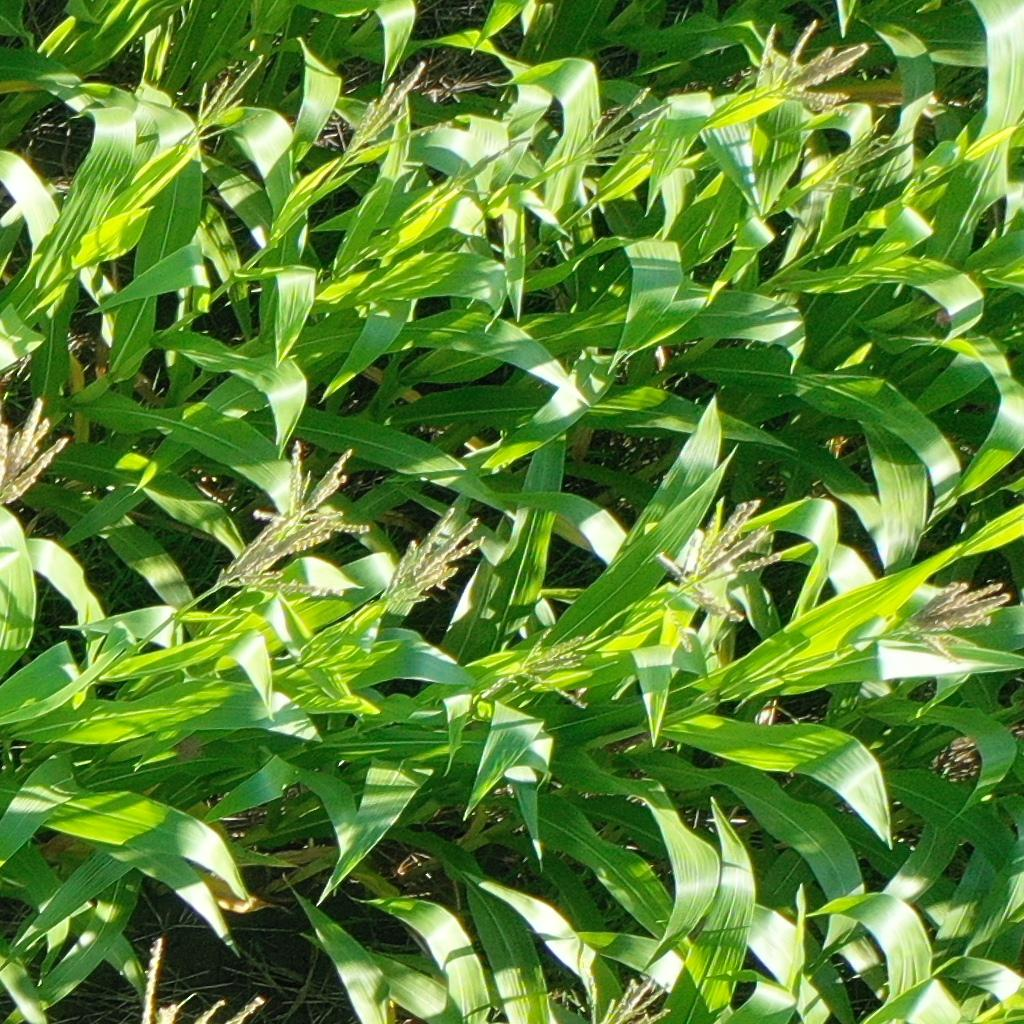Tassel: (649, 492, 790, 629), (130, 930, 266, 1024), (369, 506, 494, 608), (750, 16, 875, 115), (215, 506, 339, 605), (252, 436, 371, 536), (338, 61, 456, 156), (567, 82, 685, 176), (479, 625, 605, 710), (889, 574, 1009, 661), (808, 112, 915, 196), (178, 51, 271, 146), (1, 396, 70, 514), (444, 132, 535, 200), (579, 965, 672, 1024)
